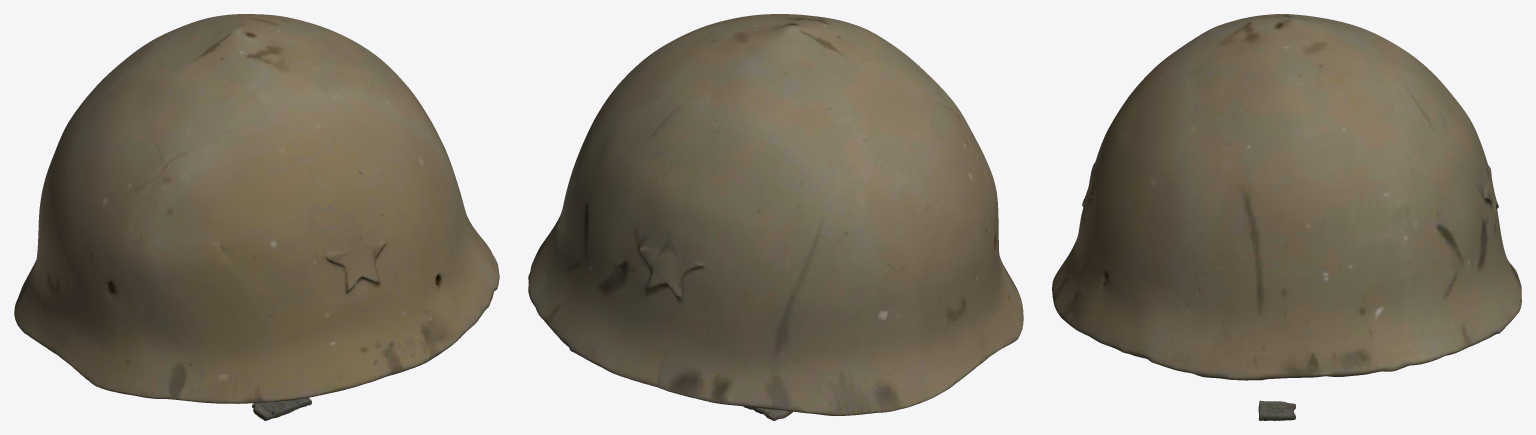
Rendered from Type 90 Steel Helmet.glb.
3 views of the same model, side by side, from view 1: azimuth 30°, elevation 25°; view 2: azimuth 150°, elevation 25°; view 3: azimuth 270°, elevation 25° (orthographic). The views are drawn at different scales.
Bounding box in the file's own units: 2 × 1.79 × 2.
Materials: 1 (1 with a texture image).
